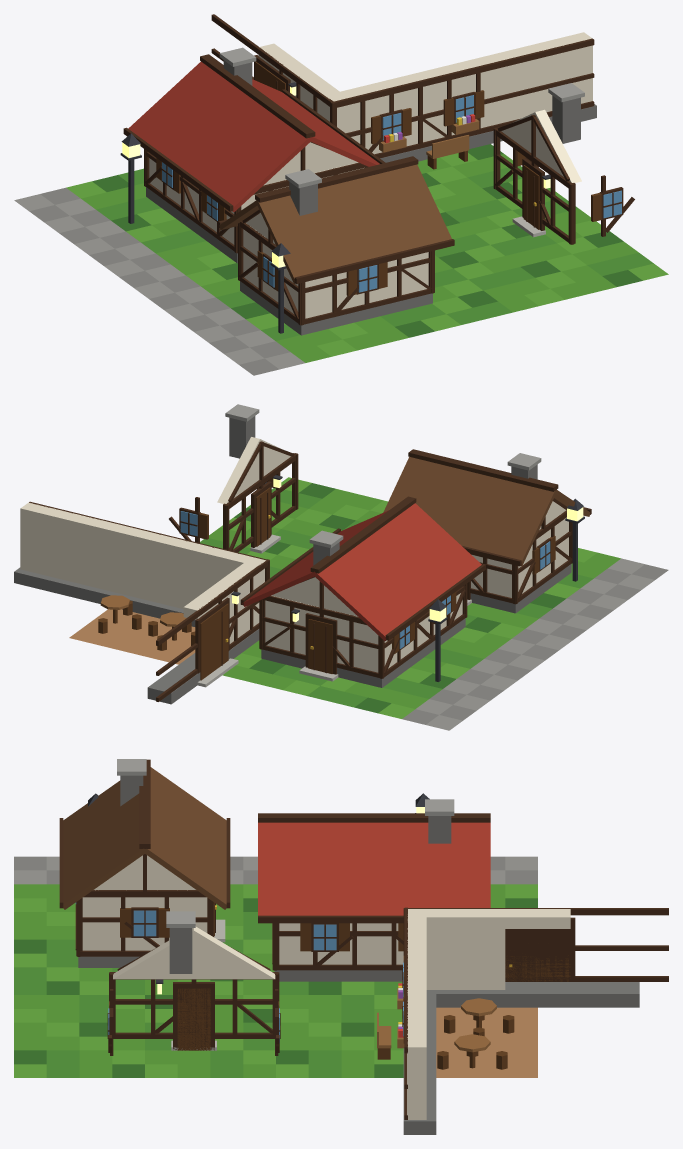
File: chunk_6_6.glb
3 views of the same model, one above another, from view 1: azimuth 30°, elevation 25°; view 2: azimuth 150°, elevation 25°; view 3: azimuth 270°, elevation 25° (orthographic). The views are drawn at different scales.
Parts seen in each view (by area): view 1: chunk_6_6; view 2: chunk_6_6; view 3: chunk_6_6.
Part boxes in pixels (<box>): chunk_6_6: <box>14,14,668,375</box>; chunk_6_6: <box>14,404,668,730</box>; chunk_6_6: <box>14,759,668,1134</box>.
Size of the model in its own units: 20.1 by 4.94 by 20.
